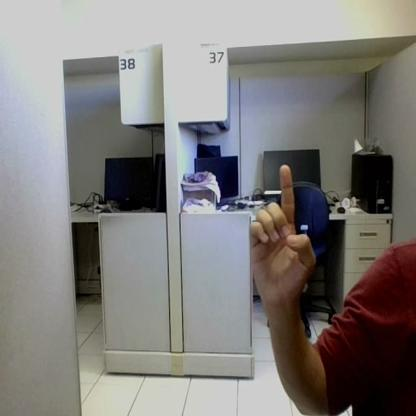D: (252, 166, 315, 299)
